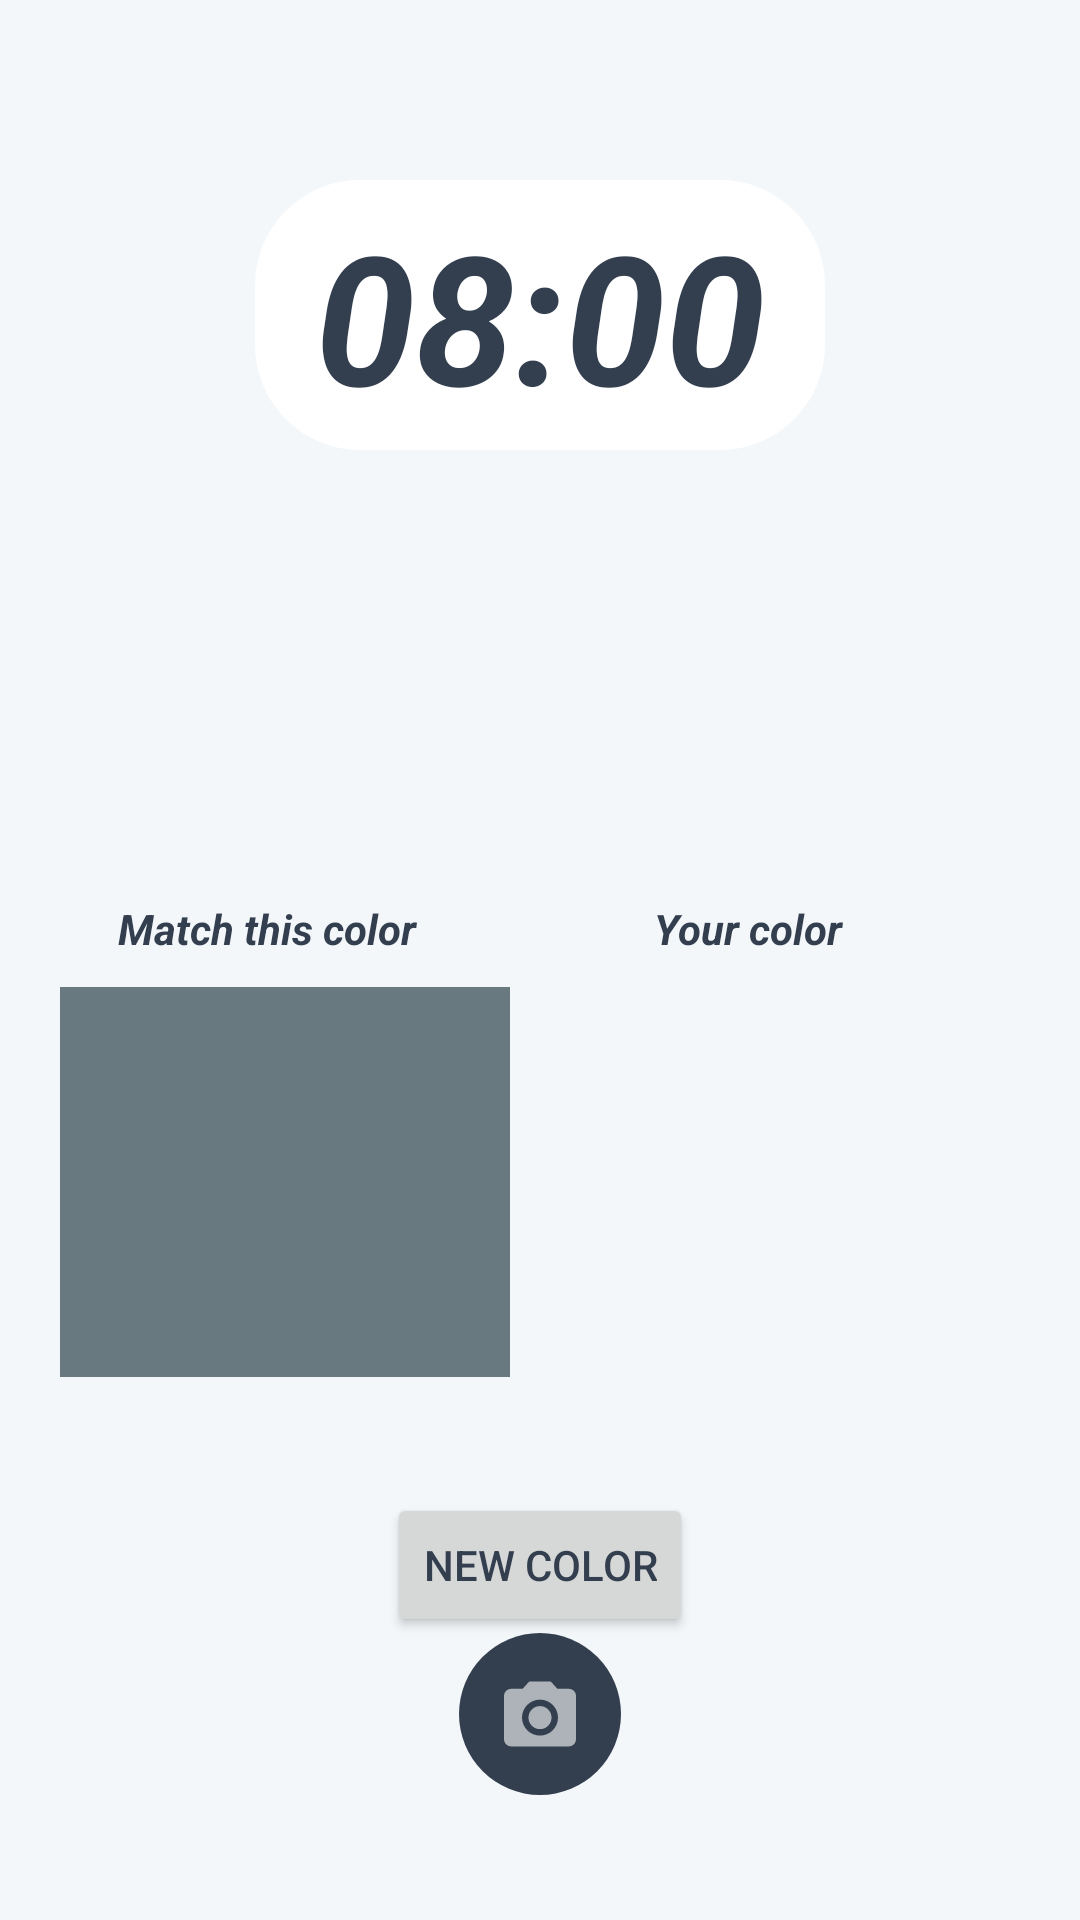

Icon bounding boxes for this 1080px×1920px phone screenshot, format {"left": x1, "top": y1, "right": x2, "bottom": y2}:
camera: {"left": 459, "top": 1633, "right": 621, "bottom": 1795}
